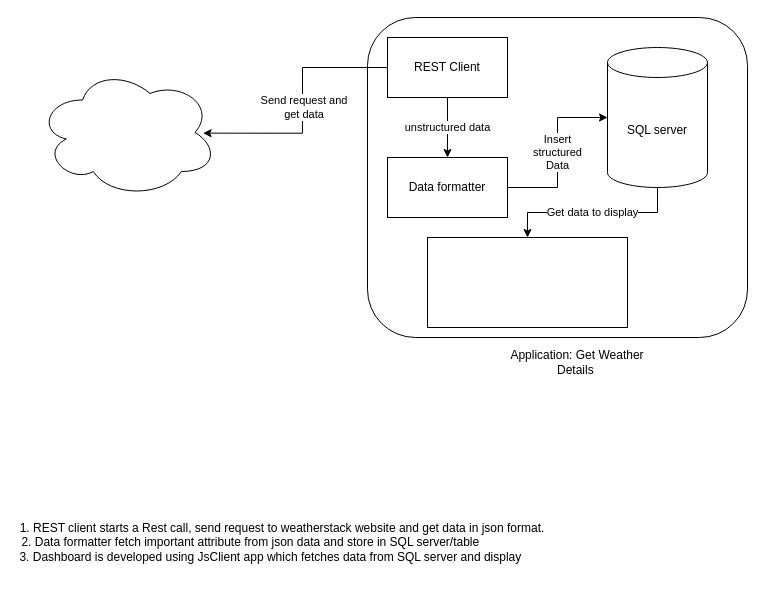
This 765x605 diagram has some shape labels left out. Each missing label, with the centre of its shape:
"api.weatherstack.com" belongs at pixel 127 132.
"Display data in Dashboard" belongs at pixel 527 282.
